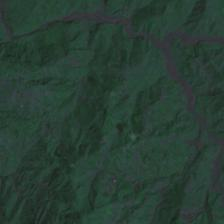landslides: (0, 0, 38, 48)
